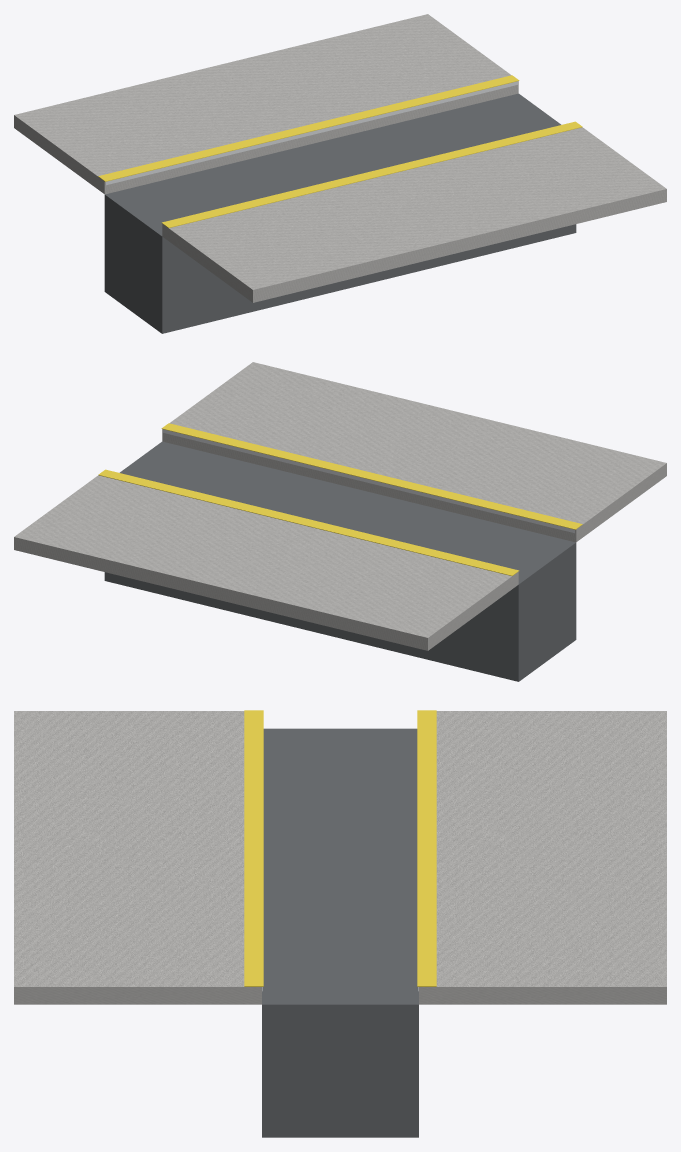
Rendered from car-repair-garage-and-mot-workshop-car-repair-garage-a-864b878d__33997.glb.
3 views of the same model, one above another, from view 1: azimuth 30°, elevation 25°; view 2: azimuth 150°, elevation 25°; view 3: azimuth 270°, elevation 25° (orthographic). The views are drawn at different scales.
Parts seen in each view (by area): view 1: car-repair-garage-and-mot-workshop-inspection-pit-edge; view 2: car-repair-garage-and-mot-workshop-inspection-pit-edge; view 3: car-repair-garage-and-mot-workshop-inspection-pit-edge.
Part boxes in pixels (x1,y1,x2,y2): car-repair-garage-and-mot-workshop-inspection-pit-edge: (14,14,666,333); car-repair-garage-and-mot-workshop-inspection-pit-edge: (14,362,666,681); car-repair-garage-and-mot-workshop-inspection-pit-edge: (14,710,666,1137).
Size of the model in its own units: 4 by 1.02 by 4.
Materials: 5 (1 with a texture image).
